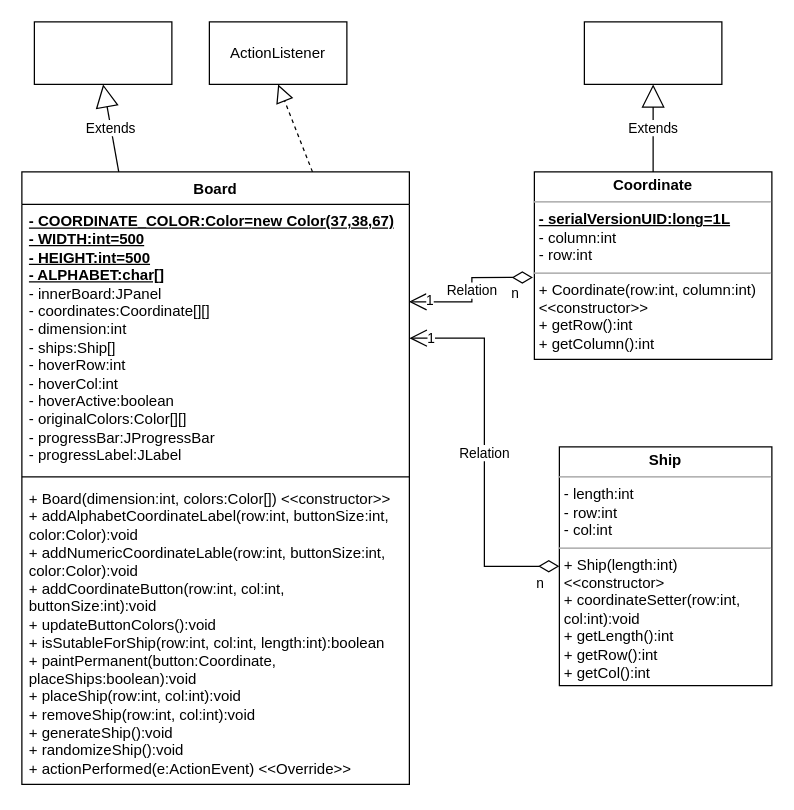
This 794x810 diagram has some shape labels left out. The shapes that lost their labels are listed below. From the top down, each one's centre as x and y in pixels, then its label:
the point at 102,52: JPanel
the point at 652,52: JButton
